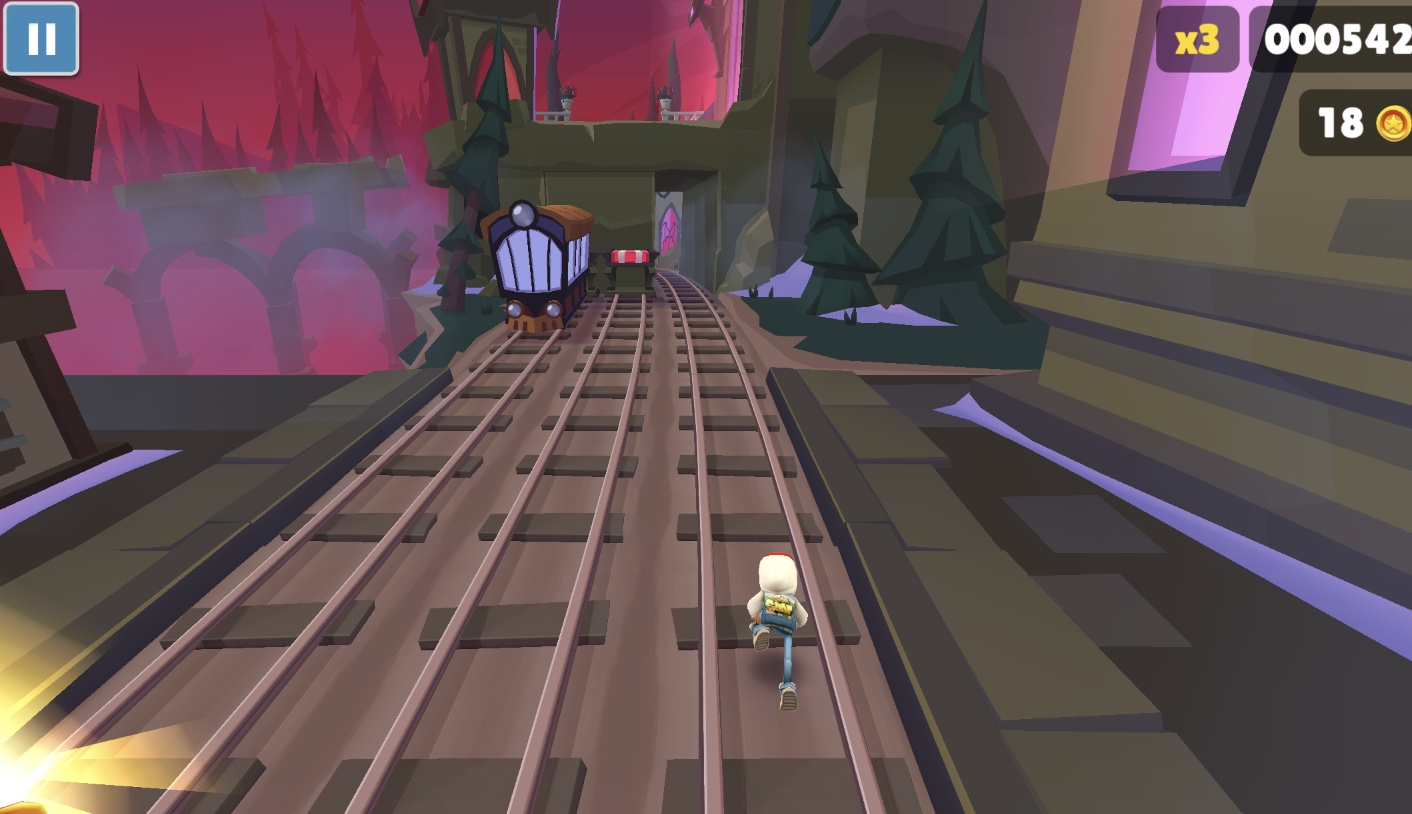ground_barrier: (596, 250, 660, 294), (584, 252, 608, 295)
train: (477, 200, 594, 335)
